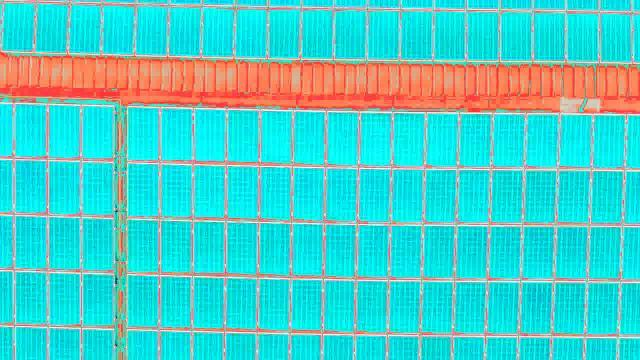dirty: (45, 105, 80, 160), (82, 104, 117, 159), (12, 159, 47, 214), (44, 160, 79, 215), (79, 161, 114, 216), (13, 213, 48, 268), (44, 215, 79, 270), (80, 216, 115, 271), (14, 270, 49, 325), (47, 270, 82, 325), (79, 273, 114, 328), (126, 107, 160, 161), (160, 108, 194, 162), (194, 109, 228, 163), (227, 108, 261, 162), (258, 111, 292, 165), (292, 111, 326, 165), (325, 111, 359, 165), (359, 113, 393, 167), (391, 113, 425, 167), (425, 112, 459, 166), (458, 114, 492, 168), (491, 114, 525, 168), (526, 115, 560, 169), (559, 114, 593, 168), (592, 114, 626, 168), (128, 162, 162, 216), (161, 164, 192, 218), (195, 164, 226, 218), (227, 166, 258, 220), (259, 166, 290, 220), (293, 167, 324, 221), (325, 168, 356, 222), (358, 168, 389, 222), (391, 169, 422, 223), (425, 169, 456, 223), (459, 169, 490, 223), (490, 169, 521, 223), (525, 169, 556, 223), (557, 169, 588, 223), (592, 170, 623, 224), (129, 220, 160, 274), (161, 219, 192, 273), (193, 221, 224, 275), (226, 223, 257, 277), (260, 221, 291, 275), (291, 223, 322, 277), (325, 224, 356, 278), (358, 223, 389, 277), (390, 226, 421, 280), (423, 225, 454, 279), (457, 226, 488, 280), (490, 225, 521, 279), (522, 225, 553, 279), (556, 224, 587, 278), (589, 225, 620, 279), (127, 274, 158, 328), (160, 274, 191, 328), (193, 276, 224, 330), (225, 277, 256, 331), (258, 277, 289, 331), (291, 278, 322, 332), (322, 277, 353, 331), (356, 279, 387, 333), (389, 279, 420, 333), (422, 279, 453, 333), (454, 280, 485, 334), (487, 279, 518, 333), (520, 281, 551, 335), (553, 281, 584, 335), (588, 281, 619, 335), (3, 2, 35, 53), (36, 3, 68, 54), (67, 2, 99, 53), (101, 4, 133, 55), (136, 4, 168, 55), (169, 4, 201, 55), (203, 6, 235, 57), (233, 7, 265, 58), (267, 8, 299, 59), (301, 7, 333, 58), (333, 8, 365, 59), (368, 9, 400, 60), (401, 9, 433, 60), (432, 8, 464, 59), (466, 10, 498, 61), (500, 10, 532, 61), (532, 10, 564, 61), (566, 11, 598, 62), (599, 11, 631, 62)
